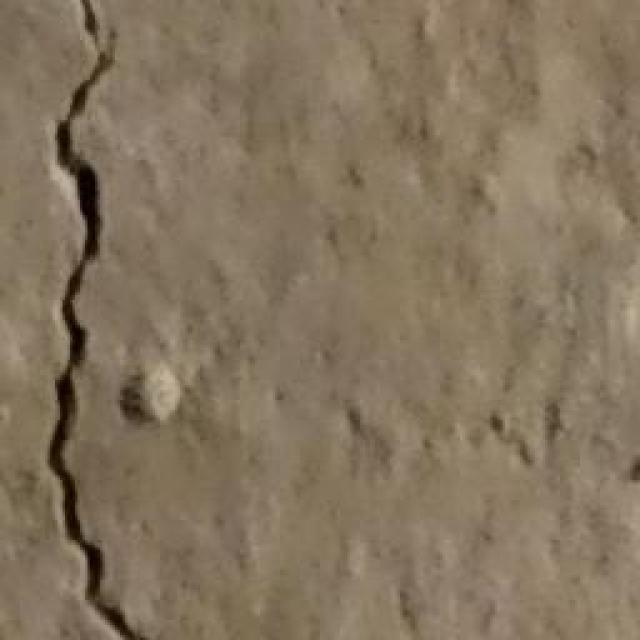Longitudinal: (36, 0, 119, 640)
